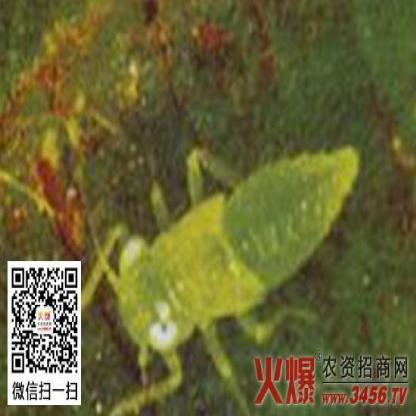green-leafhopper: (83, 145, 363, 416)
